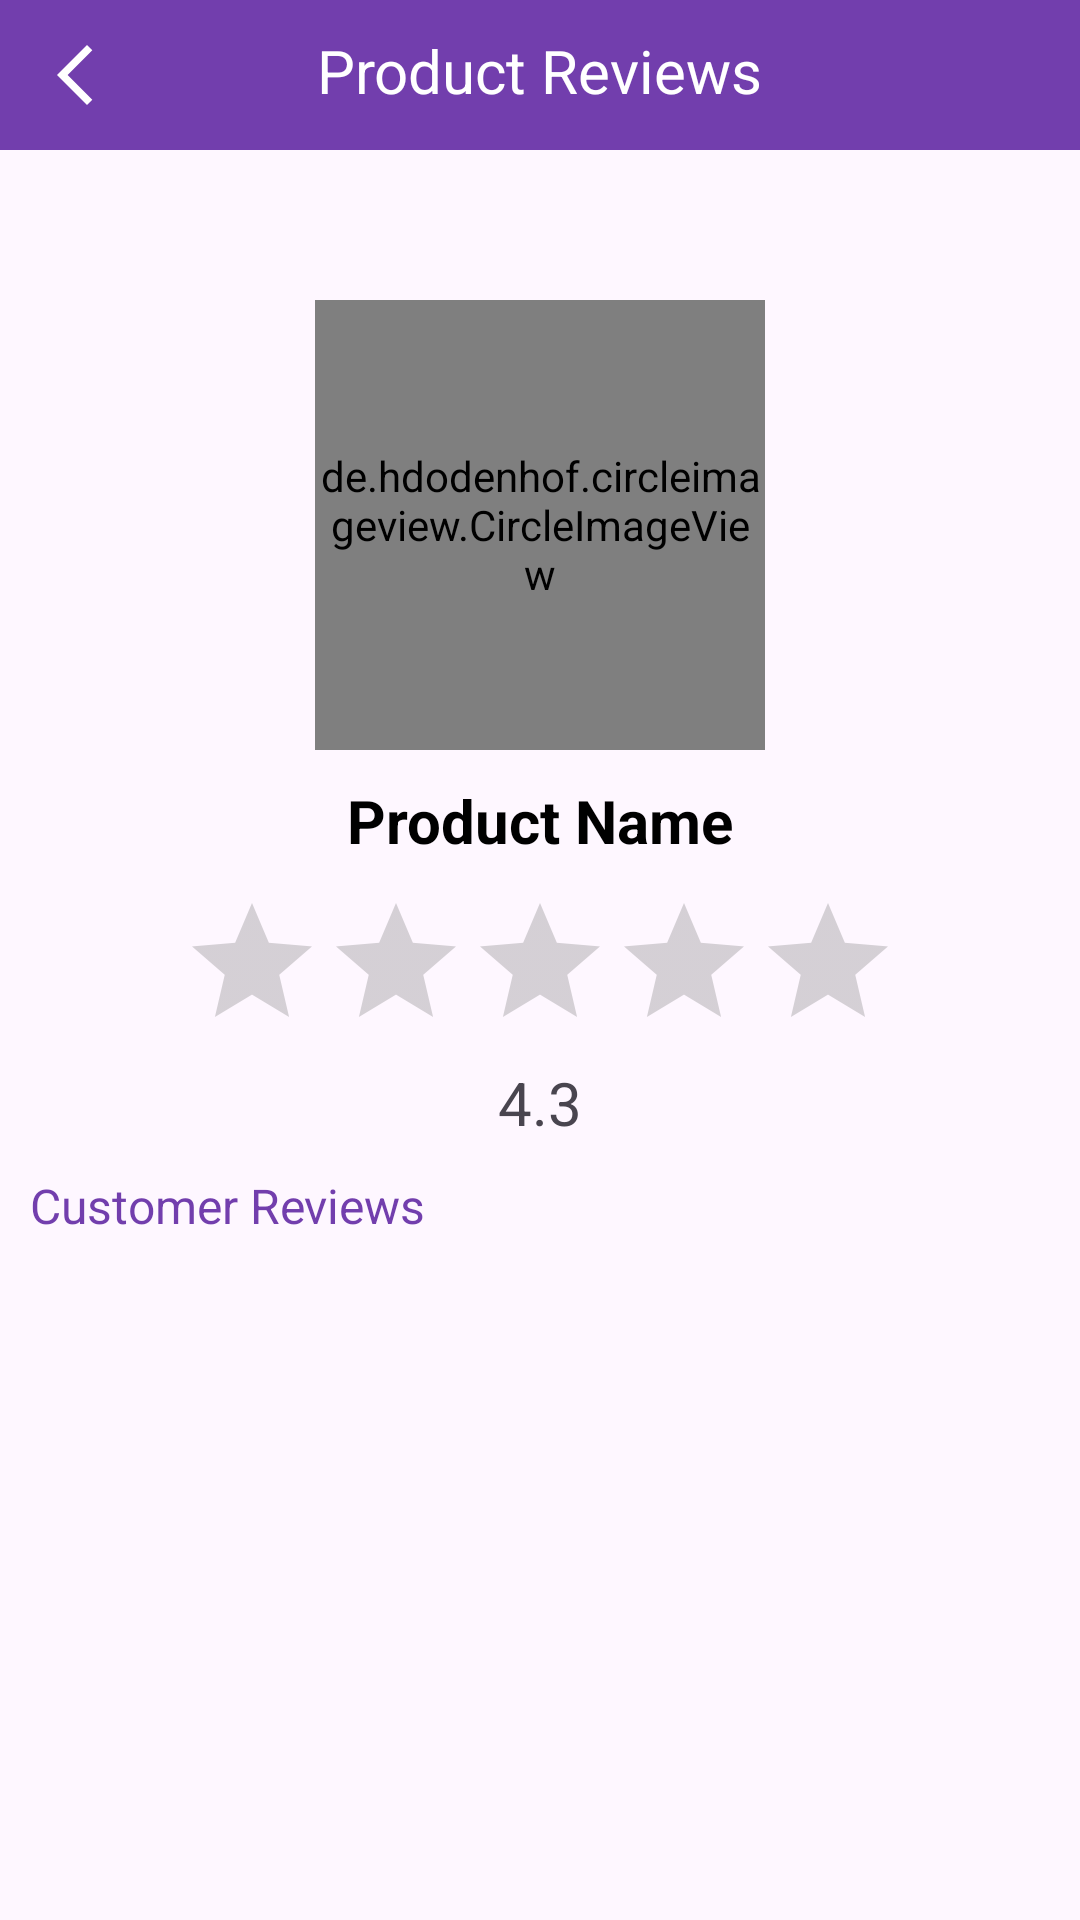

Named icons in this screenshot (1080 x 1920) and their bounding boxes, (x1, y1, x2, y2):
arrow back: (57, 45, 92, 105)
